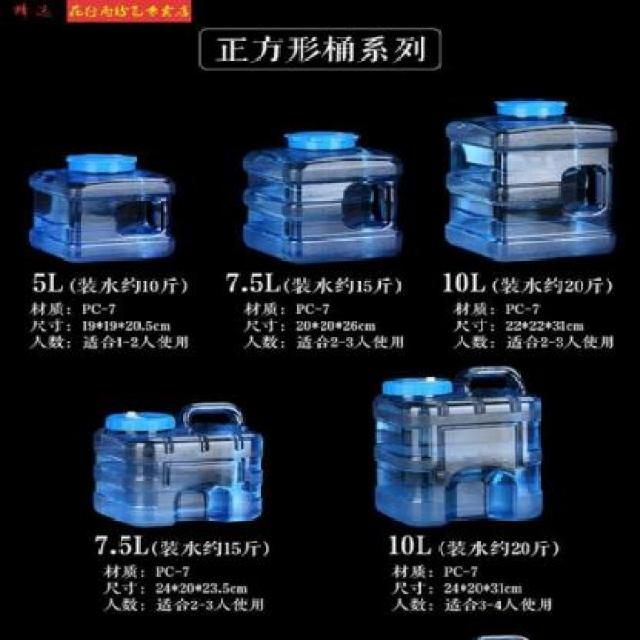coolerbottle: (371, 364, 553, 534), (443, 97, 619, 267), (86, 397, 270, 536), (239, 125, 406, 272), (21, 149, 178, 269)
